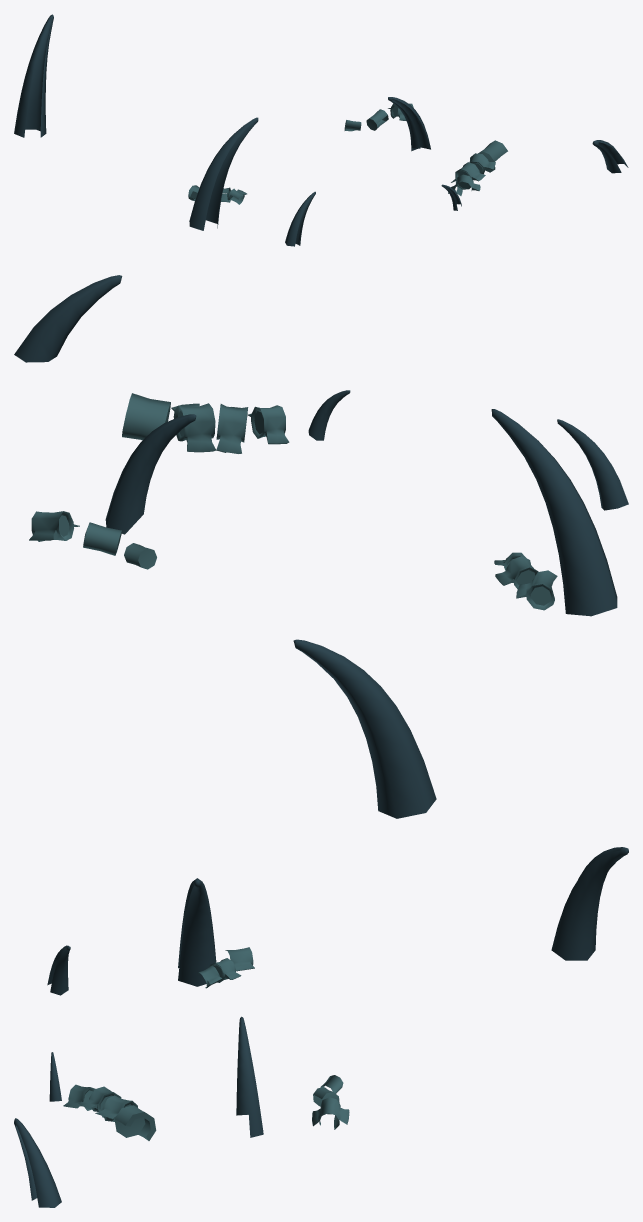
Rendered from GoblinMap01_Bone.fbx.
3 views of the same model, one above another, from view 1: azimuth 30°, elevation 25°; view 2: azimuth 150°, elevation 25°; view 3: azimuth 270°, elevation 25° (orthographic). The views are drawn at different scales.
Visible parts, largest first — view 1: Bone02, Bone01; view 2: Bone02, Bone01; view 3: Bone02, Bone01.
Part boxes in pixels (<box>): Bone02: <box>14,14,628,246</box>; Bone01: <box>188,103,507,204</box>; Bone02: <box>14,275,628,818</box>; Bone01: <box>29,393,557,610</box>; Bone02: <box>14,847,628,1207</box>; Bone01: <box>63,947,349,1140</box>.
Bounding box in the file's own units: 2119 × 470 × 1970.
